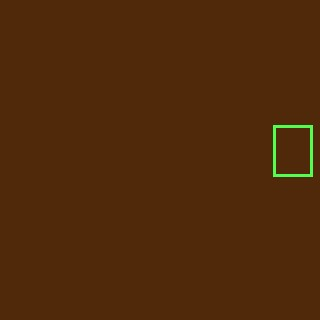bird: (273, 125, 312, 176)
